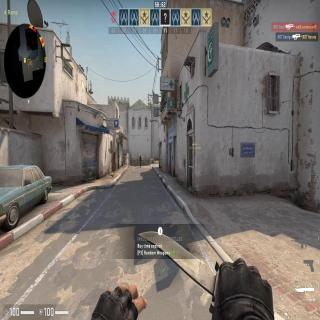CT-Body: (139, 154, 142, 168)
CT-Head: (140, 155, 141, 157)
